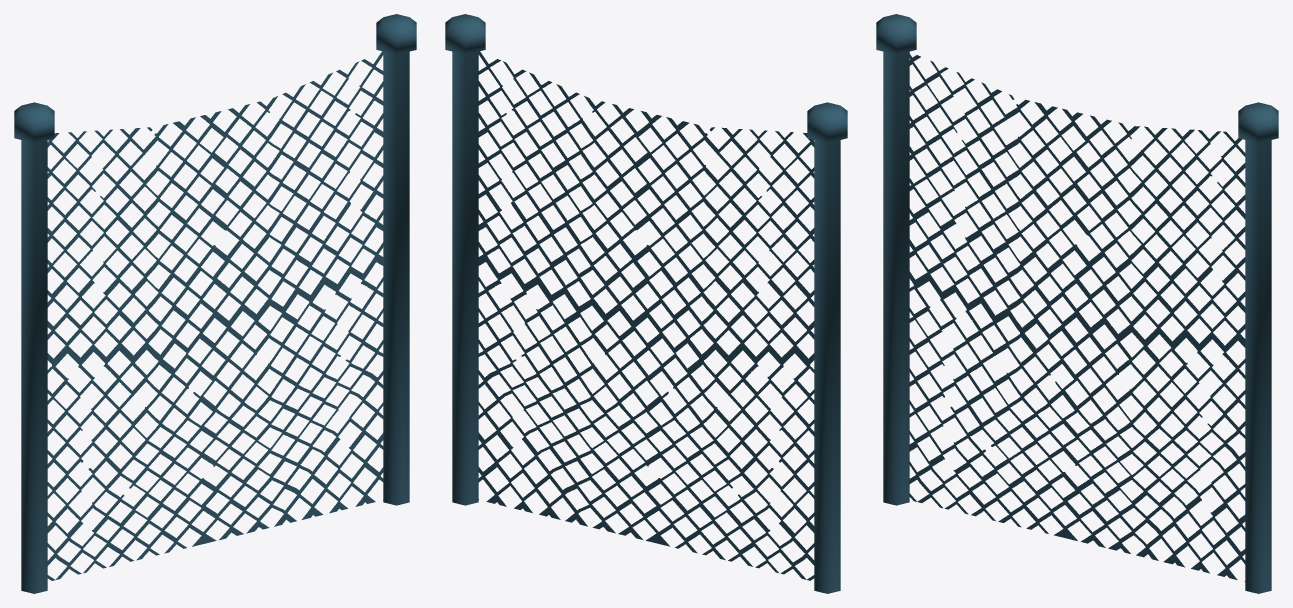
The model's file is ChainlinkfenceVar2.fbx.
3 views of the same model, side by side, from view 1: azimuth 30°, elevation 25°; view 2: azimuth 150°, elevation 25°; view 3: azimuth 330°, elevation 25° (orthographic).
Parts seen in each view (by area): view 1: chainfence005; view 2: chainfence005; view 3: chainfence005.
Part boxes in pixels (<box>): chainfence005: <box>14,14,416,593</box>; chainfence005: <box>445,14,847,593</box>; chainfence005: <box>876,14,1278,593</box>.
Size of the model in its own units: 109 by 124 by 9.47.
